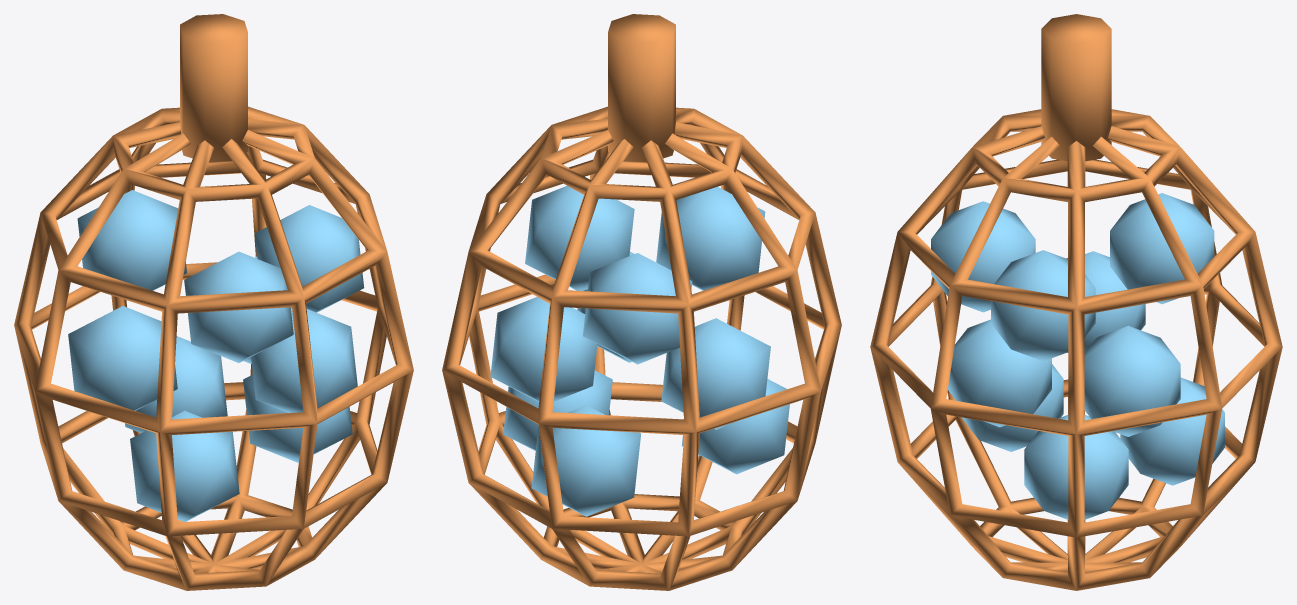
File: p_marblebag.glb
3 views of the same model, side by side, from view 1: azimuth 30°, elevation 25°; view 2: azimuth 150°, elevation 25°; view 3: azimuth 270°, elevation 25° (orthographic).
Parts seen in each view (by area): view 1: p_marblebag; view 2: p_marblebag; view 3: p_marblebag.
Boxes of the visible parts, x1,y1,x2,y2 form: p_marblebag: [14, 14, 413, 590]; p_marblebag: [442, 14, 841, 590]; p_marblebag: [870, 14, 1282, 590].
Size of the model in its own units: 0.094 by 0.1383 by 0.094.
